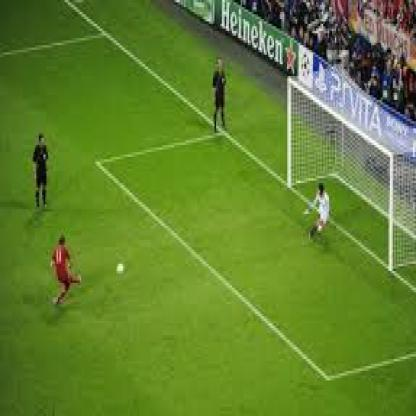penalty kick: (24, 77, 404, 315)
